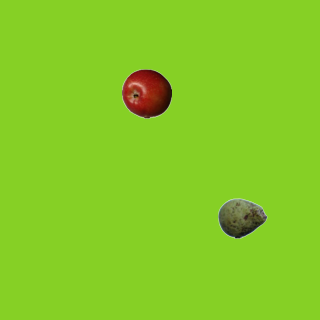Apple Braeburn: (121, 68, 171, 118)
Pear Stone: (217, 193, 267, 243)
